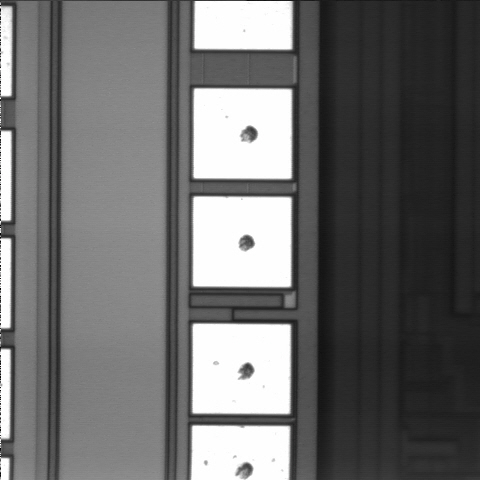pad: (194, 89, 292, 179), (193, 197, 291, 287), (193, 324, 290, 414)
